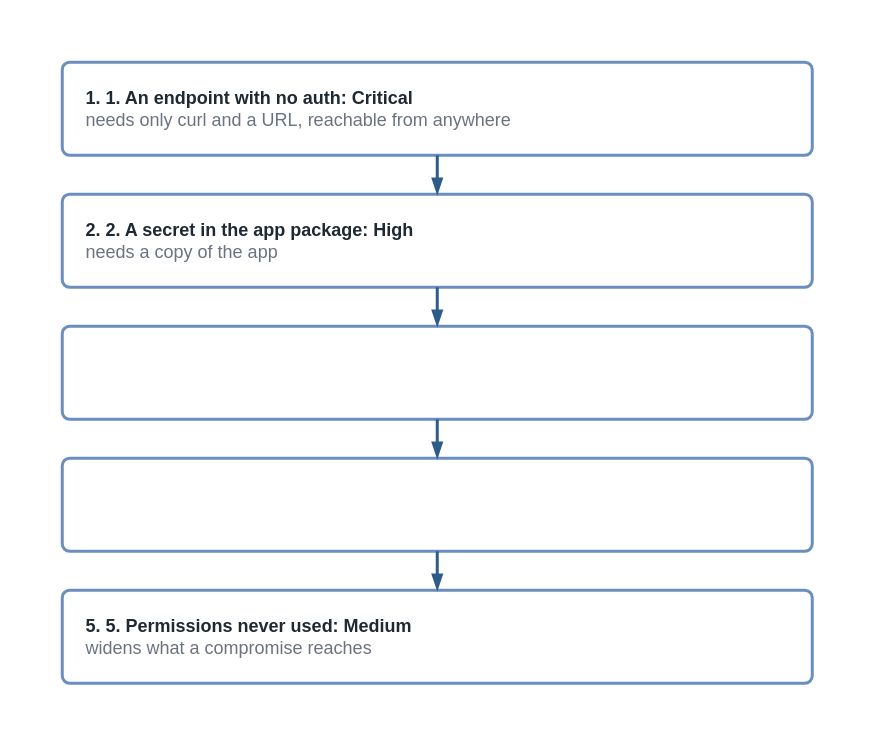
This 873x744 diagram has some shape labels left out. The shapes that lost their labels are listed below. From the top down, each one's centre as x and y in pixels, then its label:
At point (436, 372): "3. 3. A session token in plain storage: High needs the device or a backup".
At point (436, 504): "4. 4. TLS checking disabled: High needs the same network".
